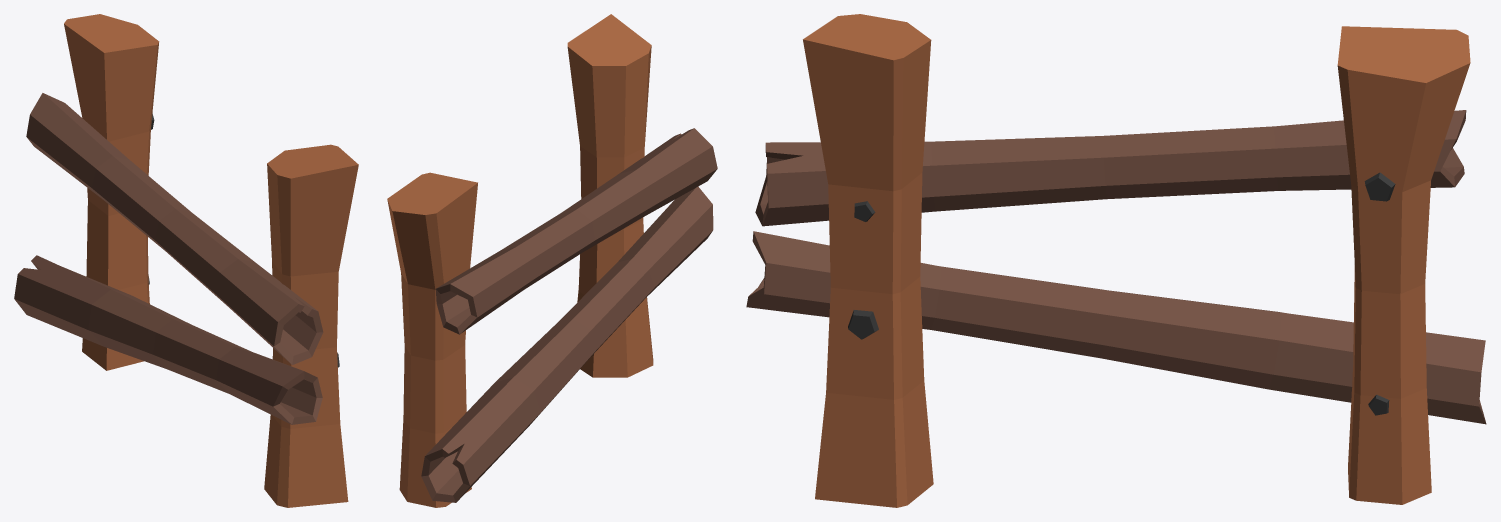
Rendered from Fence_02.fbx.
3 views of the same model, side by side, from view 1: azimuth 30°, elevation 25°; view 2: azimuth 150°, elevation 25°; view 3: azimuth 270°, elevation 25° (orthographic). The views are drawn at different scales.
Parts seen in each view (by area): view 1: Fence_02; view 2: Fence_02; view 3: Fence_02.
Boxes of the visible parts, box(x1,y1,x2,y2) form: Fence_02: box(14, 14, 358, 507); Fence_02: box(387, 14, 717, 507); Fence_02: box(746, 14, 1486, 507).
Size of the model in its own units: 23.48 by 68.35 by 98.85.
